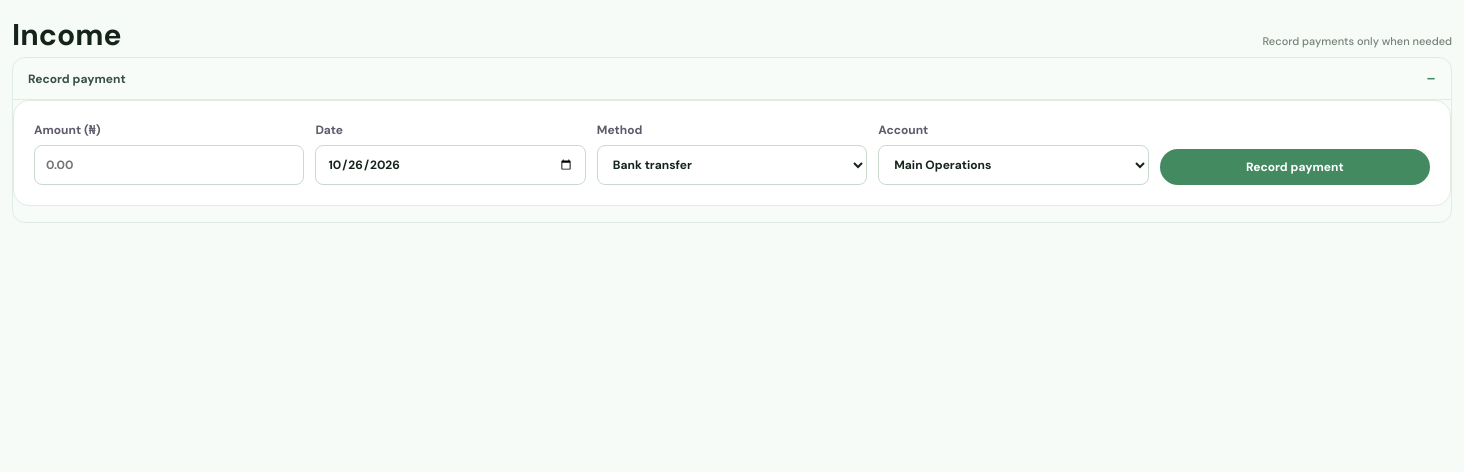
Scenario: what a role is allowed to do on this page › record only: can record, never asks for the list, and gets no receipt button
Type "100" into the field labelled "Amount (₦)". click: (169, 165)
box: [34, 145, 304, 185]
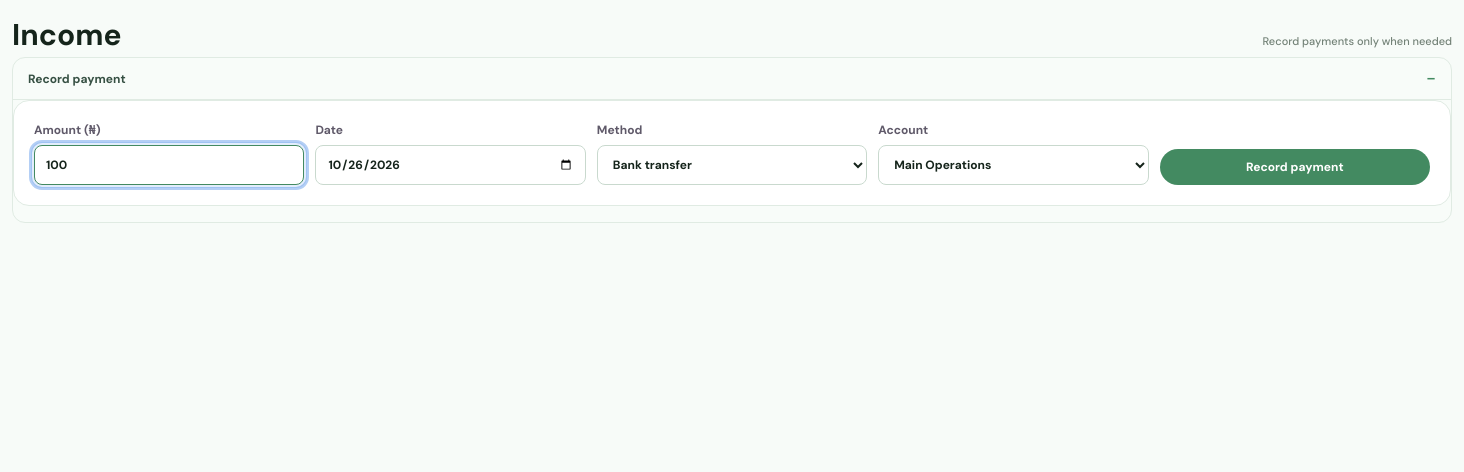
Select "Main Operations" in the dropdown labelled "Account". click: (1013, 165)
box: [878, 145, 1149, 185]
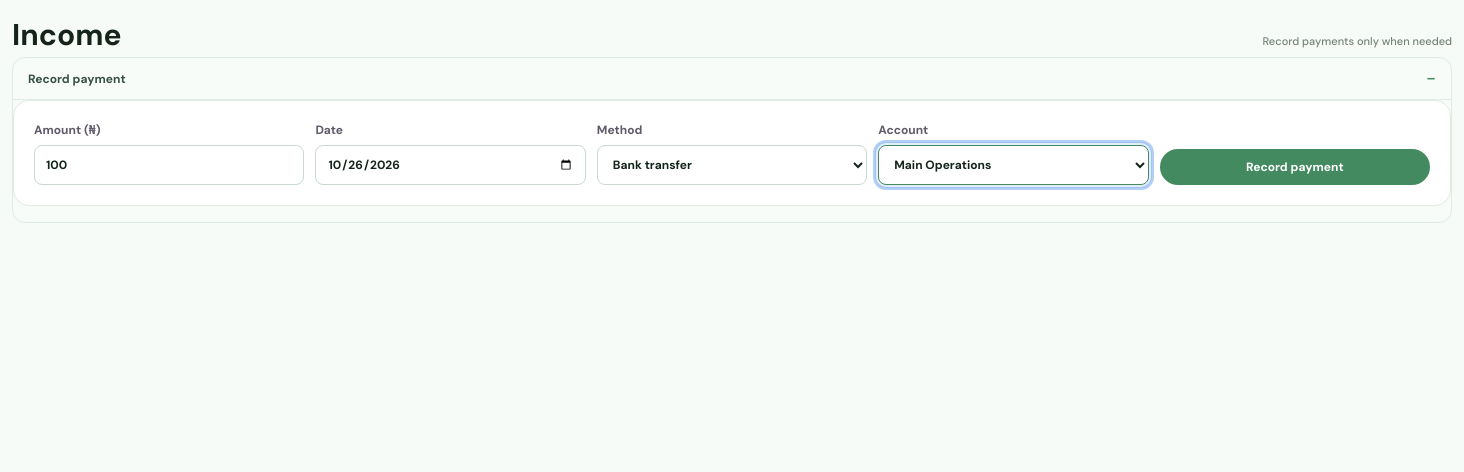
Click the button "Record payment". click: (1295, 167)
box: [1160, 149, 1430, 185]
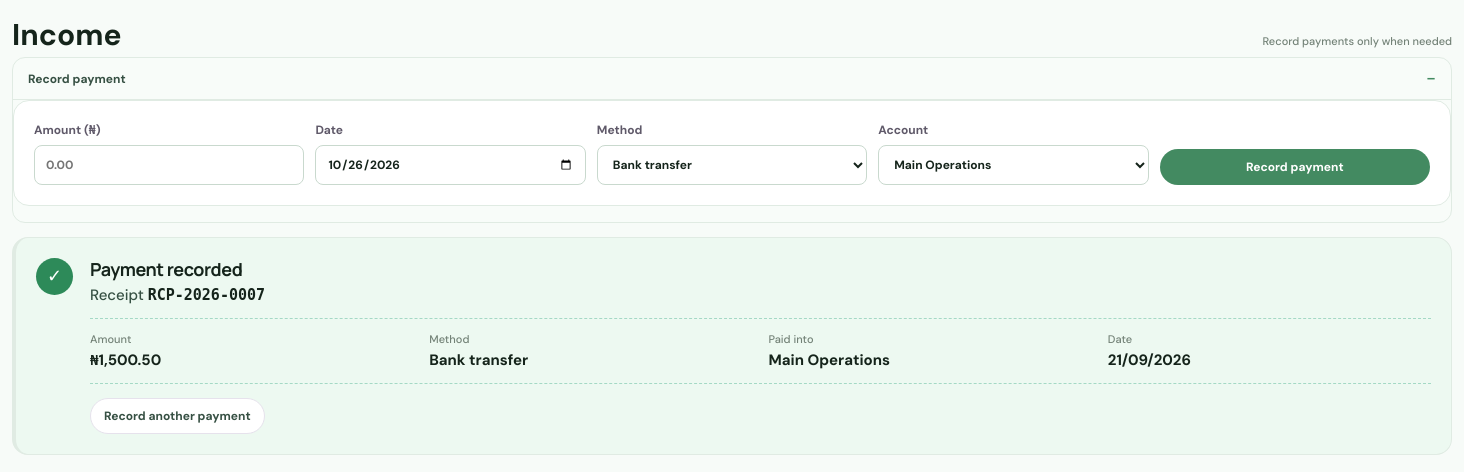
expect the message shows "Payment recorded": met, box [90, 257, 242, 281]
